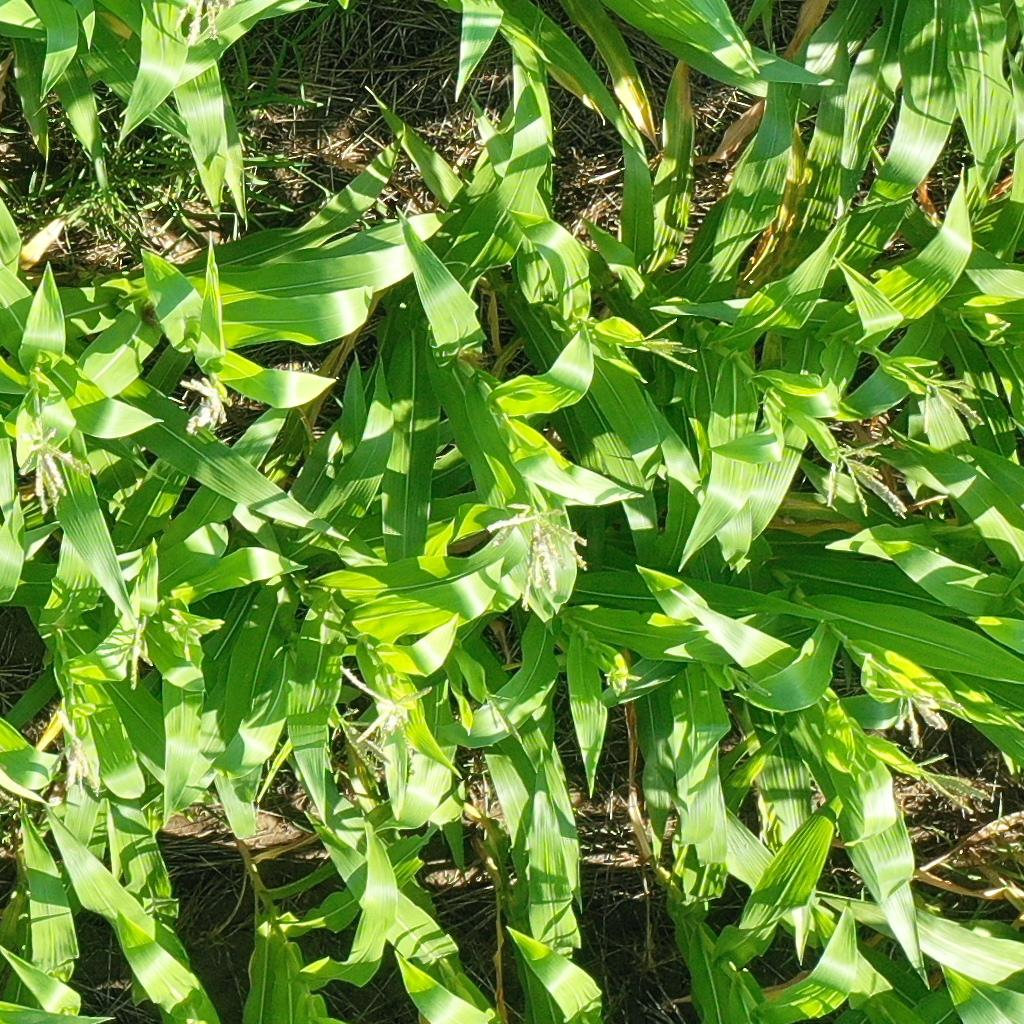Tassel: (483, 496, 592, 612), (338, 665, 436, 762), (817, 434, 915, 520), (12, 417, 92, 514), (909, 750, 993, 815), (49, 709, 104, 799), (94, 616, 160, 689), (887, 687, 962, 746), (919, 368, 980, 433), (327, 707, 390, 766), (173, 372, 229, 436), (635, 318, 702, 370), (163, 606, 220, 657), (177, 1, 235, 47), (484, 690, 522, 738), (970, 315, 1013, 335), (602, 670, 638, 693)
